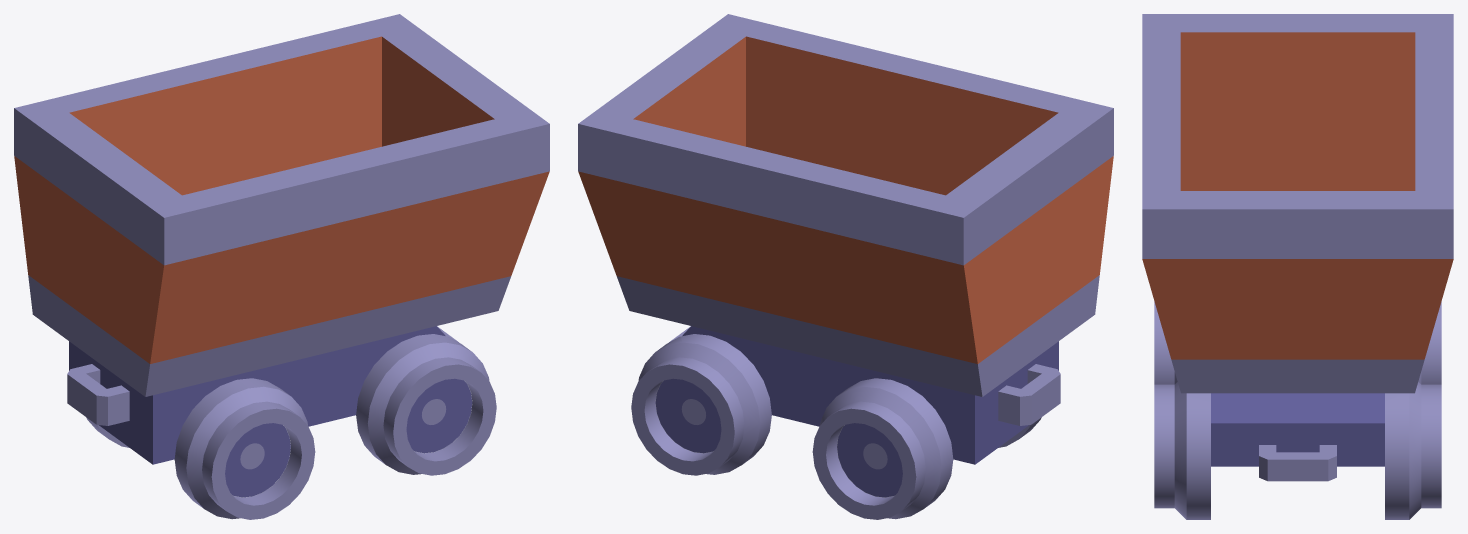
File: cart.obj
3 renders of one model, left to right at view 1: azimuth 30°, elevation 25°; view 2: azimuth 150°, elevation 25°; view 3: azimuth 270°, elevation 25°, orthographic. The views are drawn at different scales.
Parts seen in each view (by area): view 1: cart; view 2: cart; view 3: cart.
Boxes of the visible parts, x1,y1,x2,y2 form: cart: [14, 14, 549, 519]; cart: [578, 14, 1113, 519]; cart: [1142, 14, 1453, 519].
Bounding box in the file's own units: 0.5414 × 0.4489 × 0.3581.
